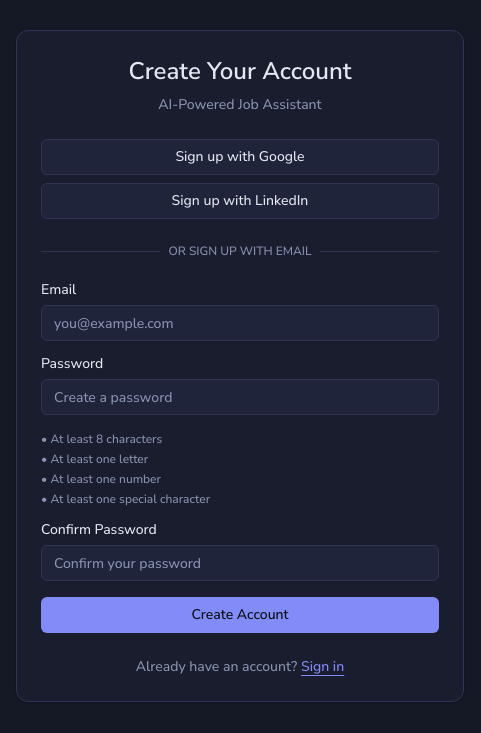
Test: RegisterPage › form validation › shows error when email is empty on submit
Type "P@ssw0rd!" into the password field labelled "Password" at [240, 397], box [41,379,439,415]
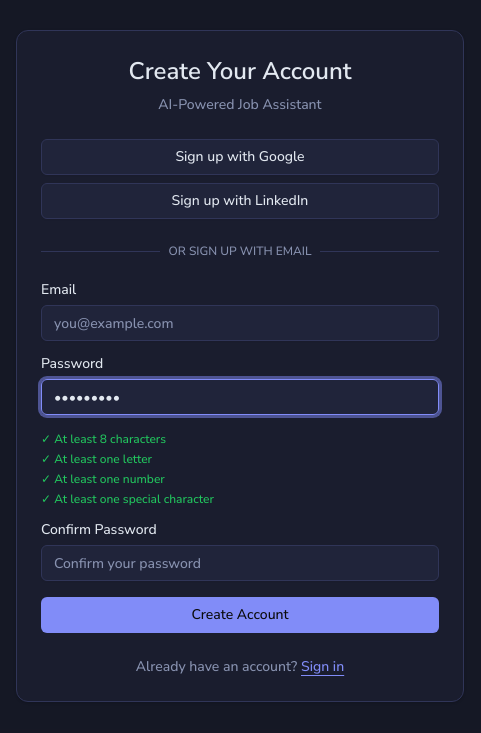
Type "P@ssw0rd!" into the password field labelled "Confirm Password" at [240, 563], box [41,545,439,581]
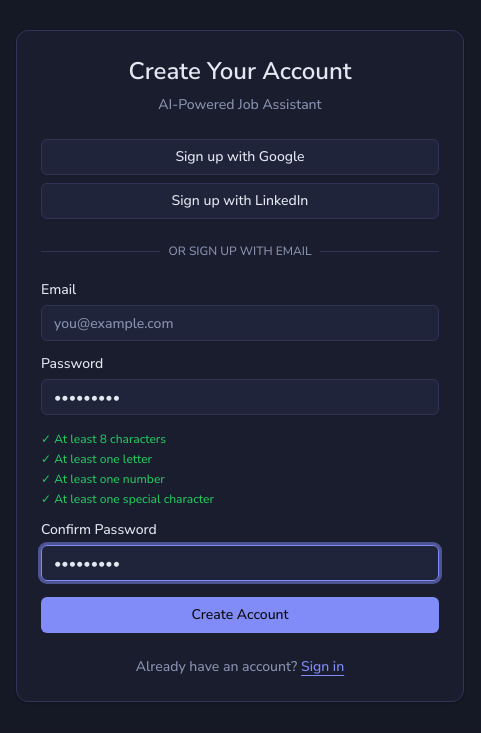
Click the button with test id "register-submit" at [240, 615], box [41,597,439,633]
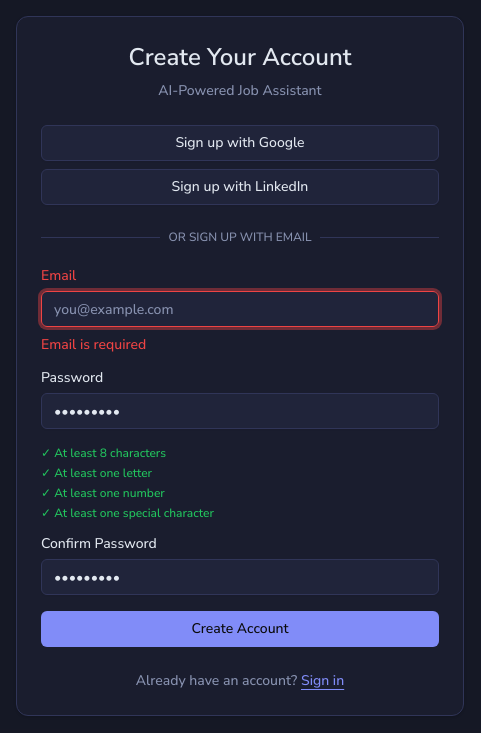
Check: the text "Email is required" is shown, box [41,335,146,354]
